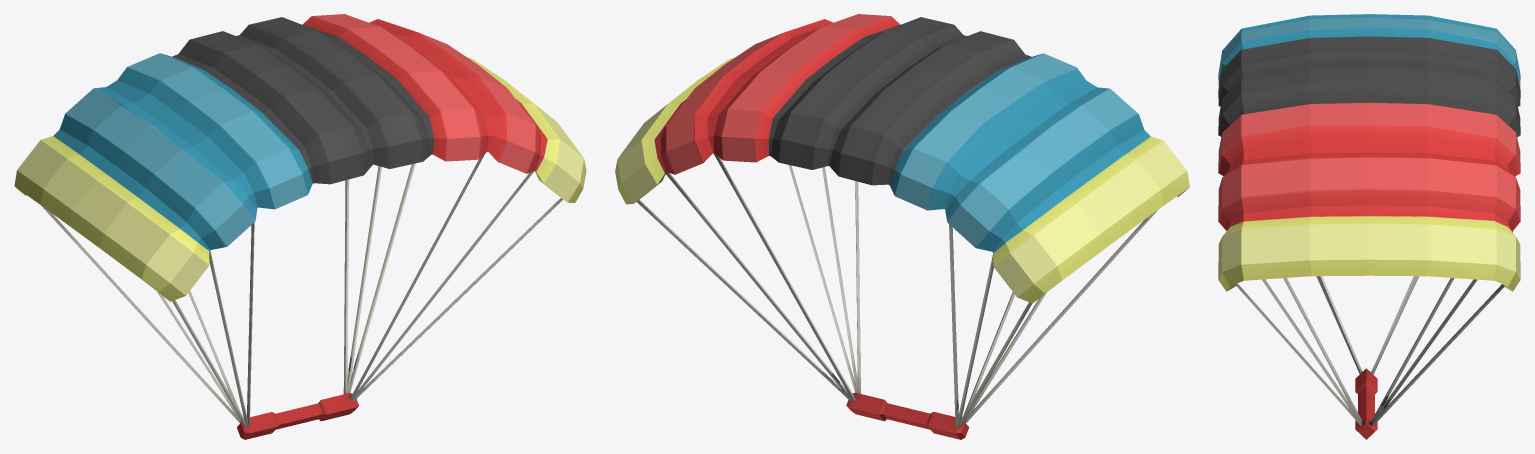
File: Parachute.gltf
3 views of the same model, side by side, from view 1: azimuth 30°, elevation 25°; view 2: azimuth 150°, elevation 25°; view 3: azimuth 270°, elevation 25° (orthographic).
Parts seen in each view (by area): view 1: node-0; view 2: node-0; view 3: node-0.
Boxes of the visible parts, left/top/right/bottom form: node-0: left=14, top=14, right=586, bottom=439; node-0: left=615, top=14, right=1189, bottom=439; node-0: left=1218, top=14, right=1520, bottom=439.
Bounding box in the file's own units: 9.11 × 6.83 × 5.22.
1 material, 1 textured.
